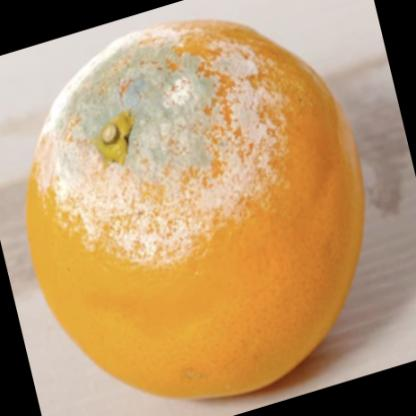rotten: (27, 23, 366, 397)
